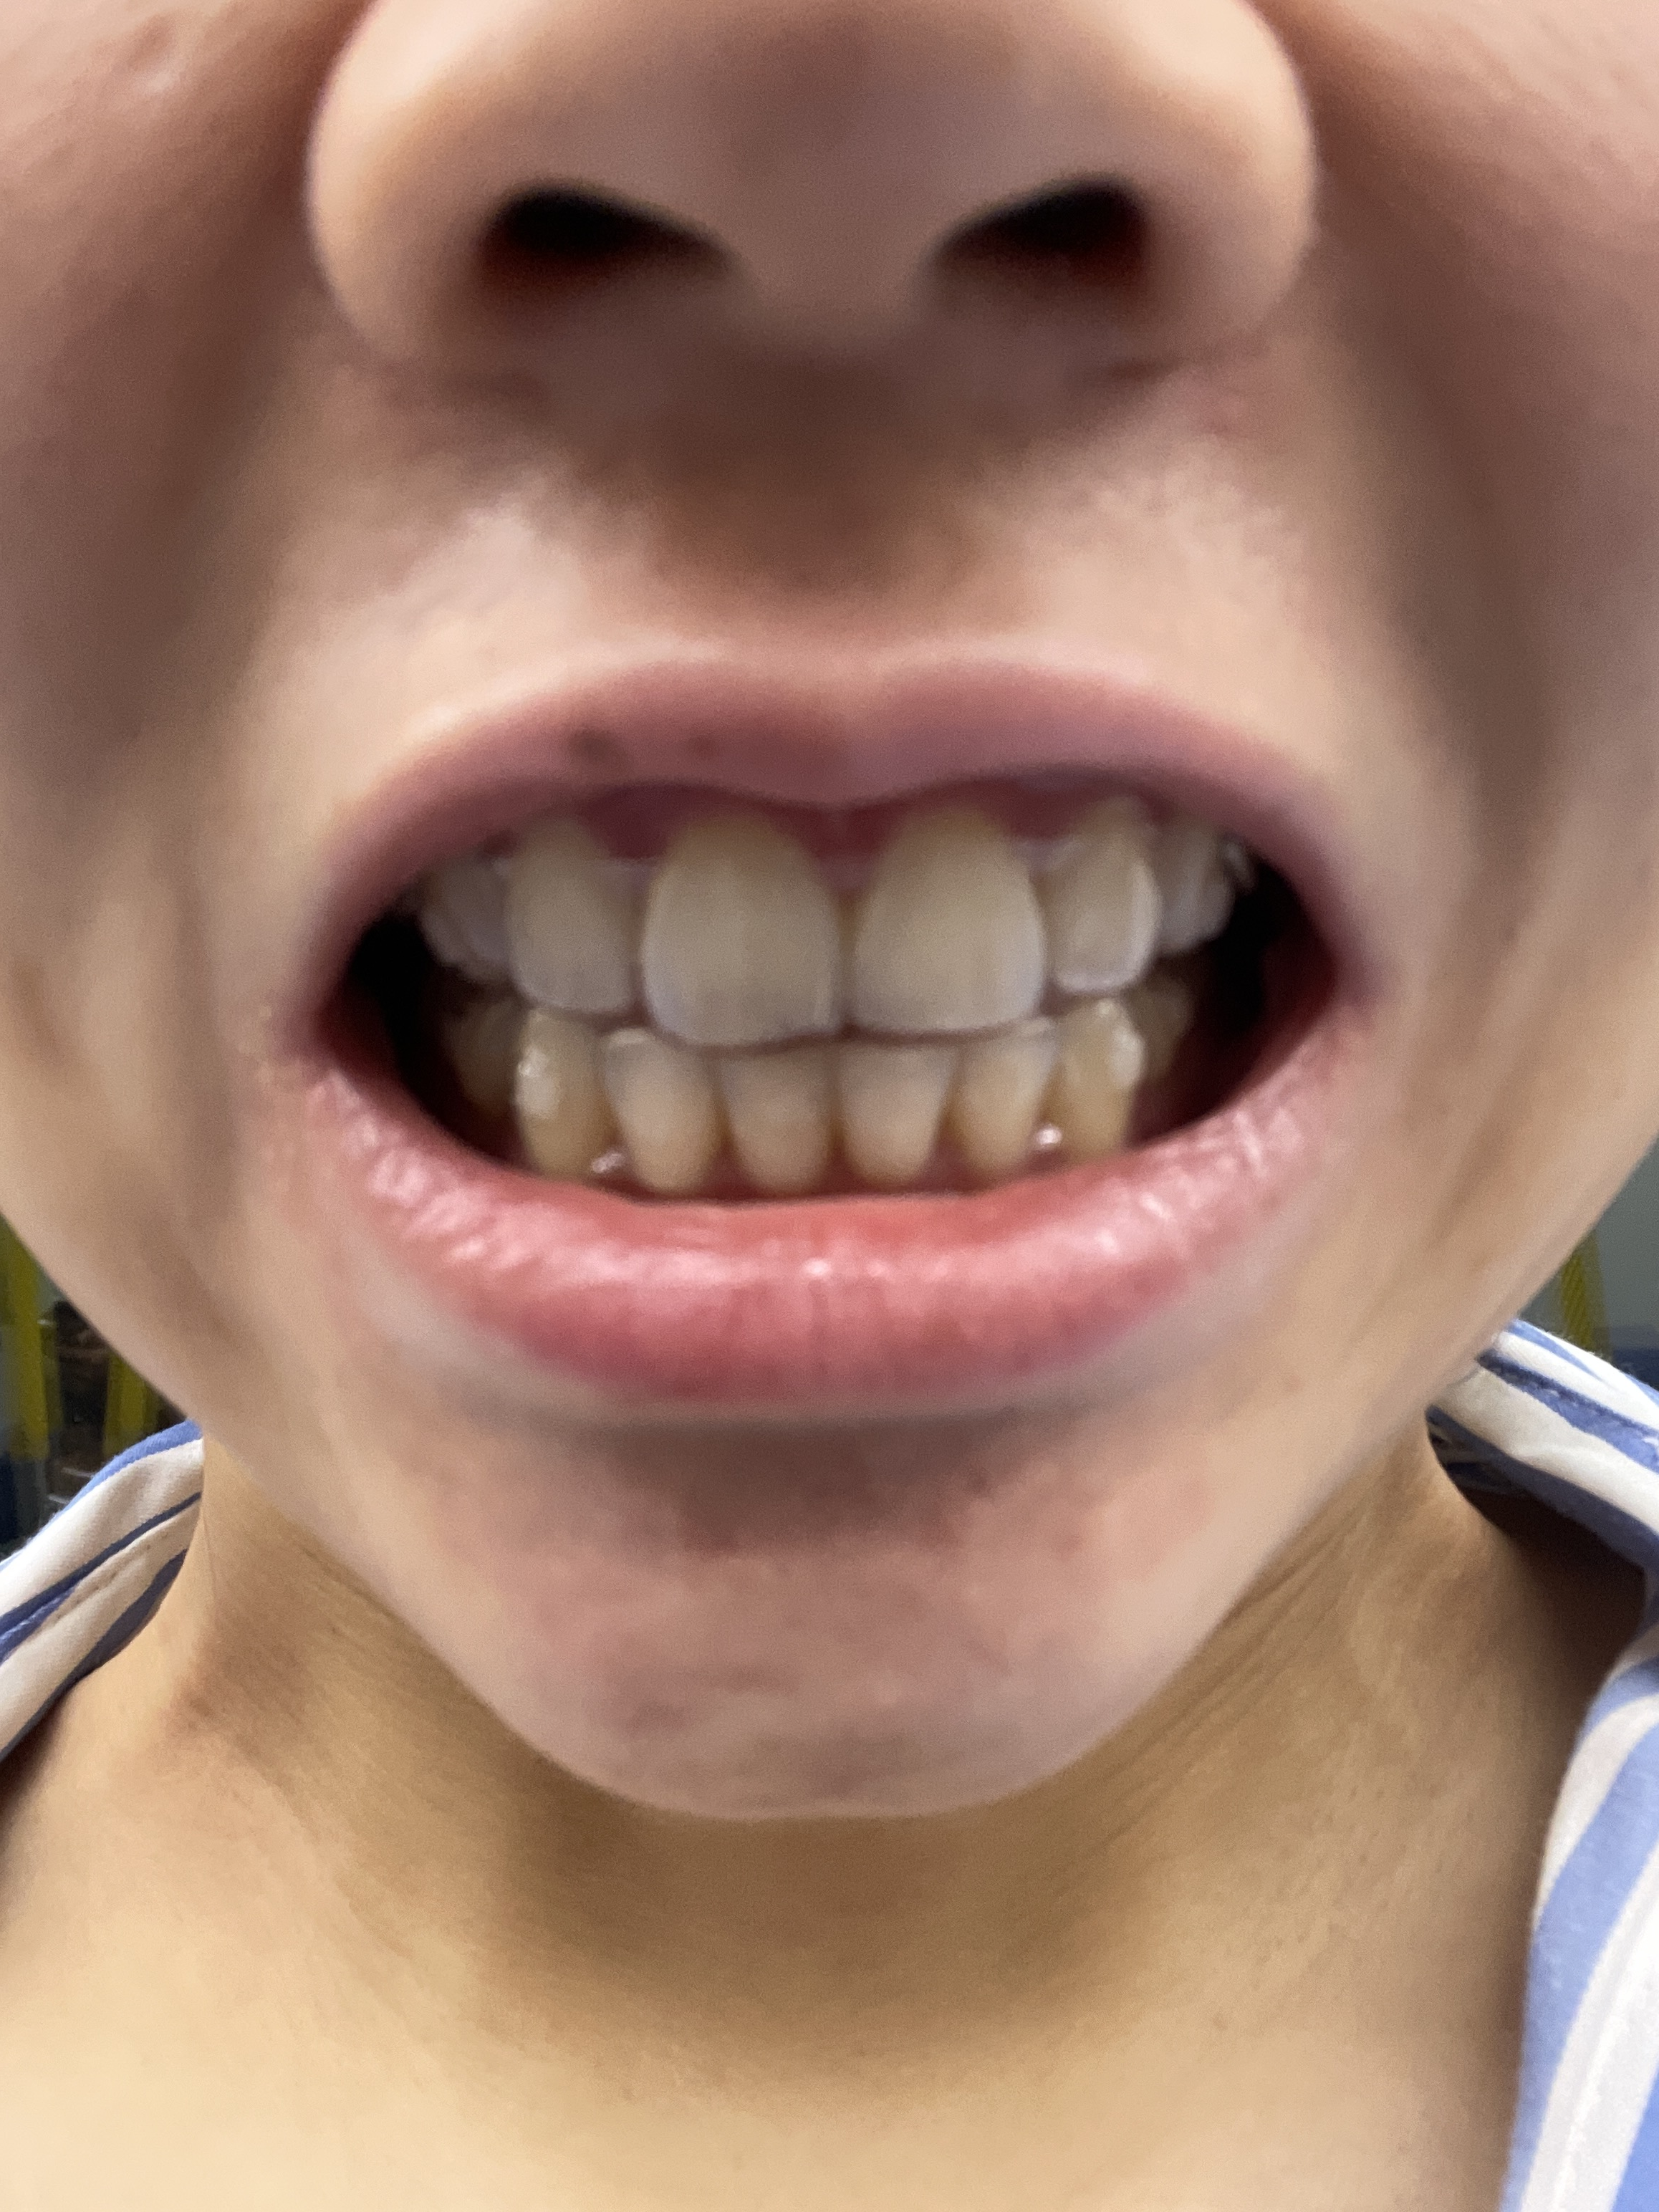teeth: (647, 829, 829, 1043), (856, 820, 1039, 1029), (500, 822, 629, 1012), (1061, 817, 1175, 1003), (598, 1043, 704, 1193), (507, 1010, 601, 1177), (734, 1059, 829, 1204), (856, 1047, 948, 1191), (962, 1045, 1056, 1177), (1068, 1010, 1136, 1160)
